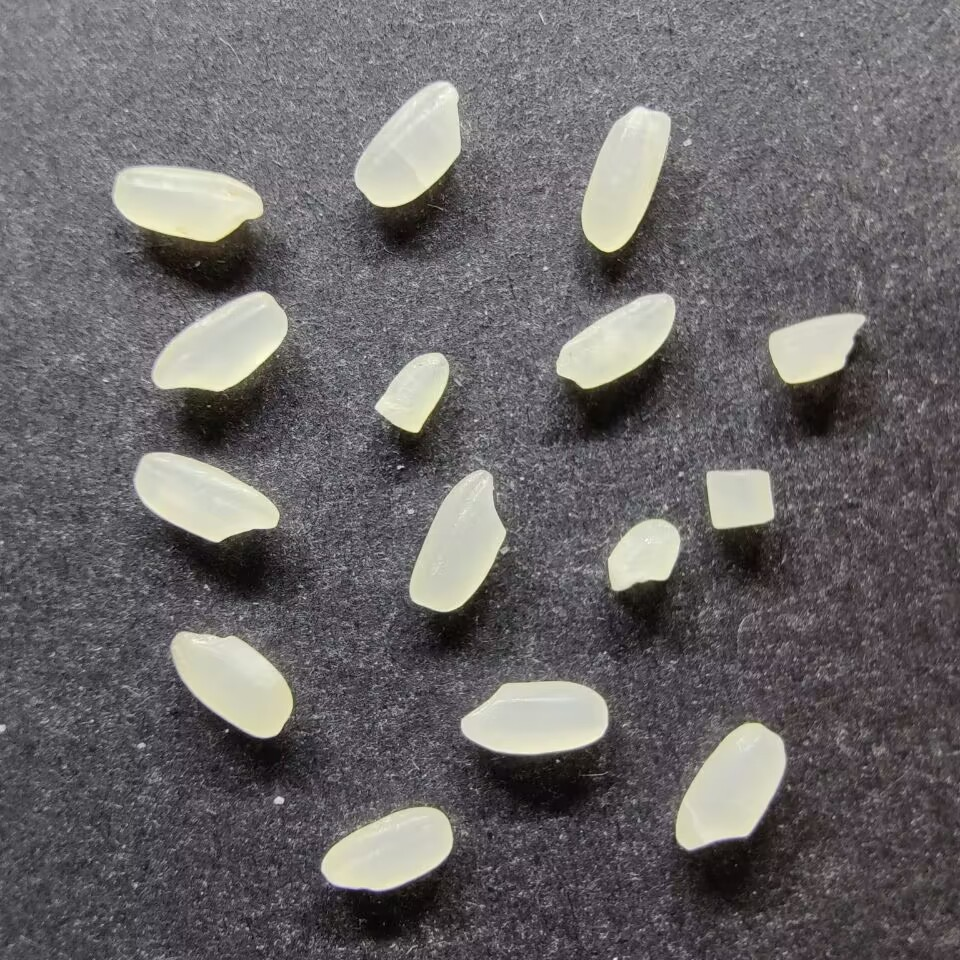broken: (767, 312, 868, 383), (372, 351, 450, 433), (608, 518, 681, 593), (705, 467, 776, 530)
rice: (675, 722, 787, 851), (150, 290, 288, 392), (408, 469, 505, 612), (352, 81, 462, 207), (579, 105, 671, 252), (133, 451, 280, 543), (169, 630, 293, 739), (554, 291, 675, 389), (112, 165, 263, 243), (321, 805, 453, 892), (459, 680, 608, 756)
